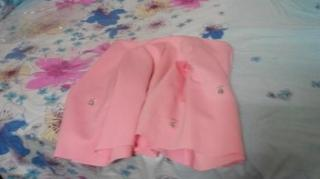skirt: (54, 36, 246, 172)
